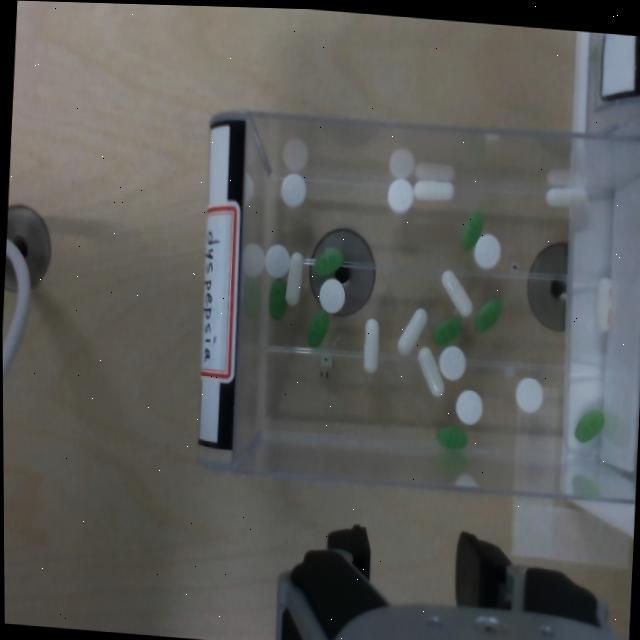magmil_tab: (472, 232, 500, 268), (514, 376, 542, 412), (437, 345, 464, 380), (454, 389, 481, 424), (317, 276, 343, 312), (386, 178, 412, 212), (280, 172, 305, 206), (264, 244, 289, 276)
medilacsenteric_tab: (440, 269, 471, 316), (397, 308, 426, 354), (416, 346, 443, 395), (595, 277, 612, 331), (285, 251, 302, 304), (544, 185, 586, 206), (413, 178, 453, 200), (362, 318, 378, 371)
nexilen_tab: (573, 407, 603, 442), (313, 247, 343, 276), (432, 315, 461, 345), (474, 298, 500, 330), (461, 211, 482, 250), (307, 309, 328, 346), (436, 424, 466, 449), (267, 278, 284, 319)
